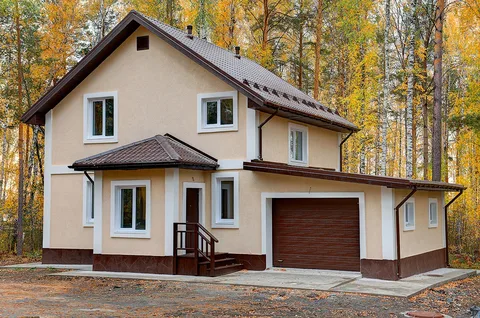private_hause: (43, 29, 302, 271)
